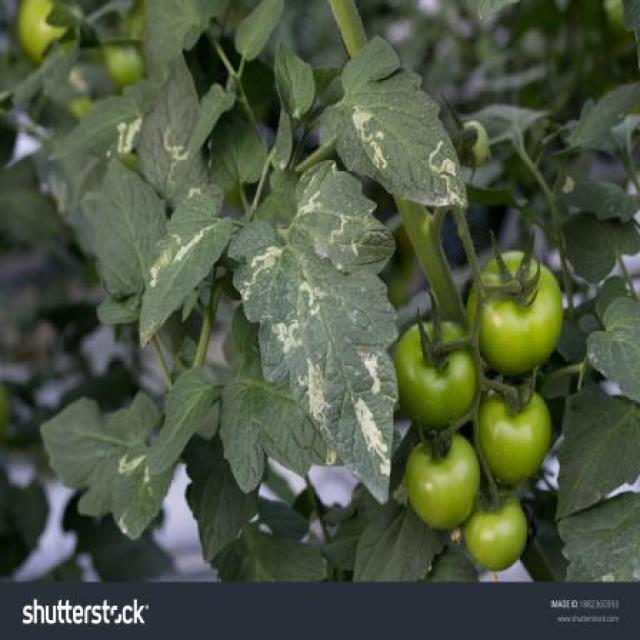Leaf Miner: (226, 158, 401, 508), (316, 35, 471, 211), (136, 181, 234, 348)
